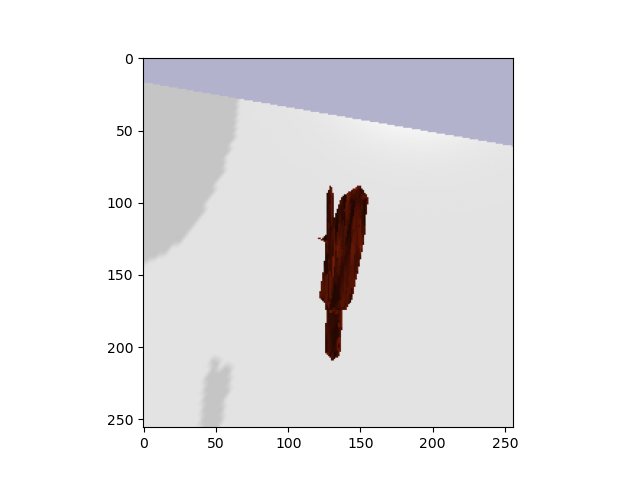v249b387_107: (308, 183, 376, 367)
